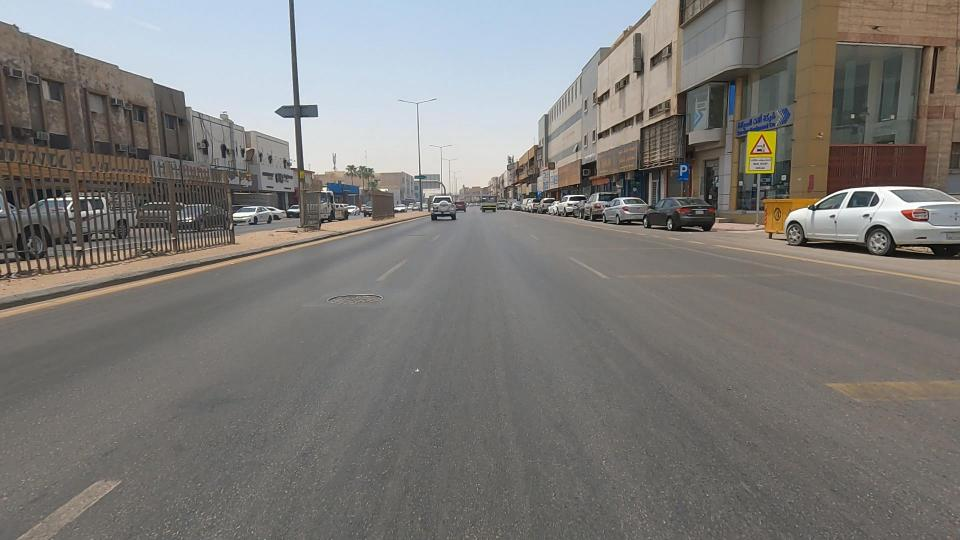BAD_BILLBOARD: (604, 93, 718, 177), (552, 125, 680, 189), (534, 137, 607, 213)
